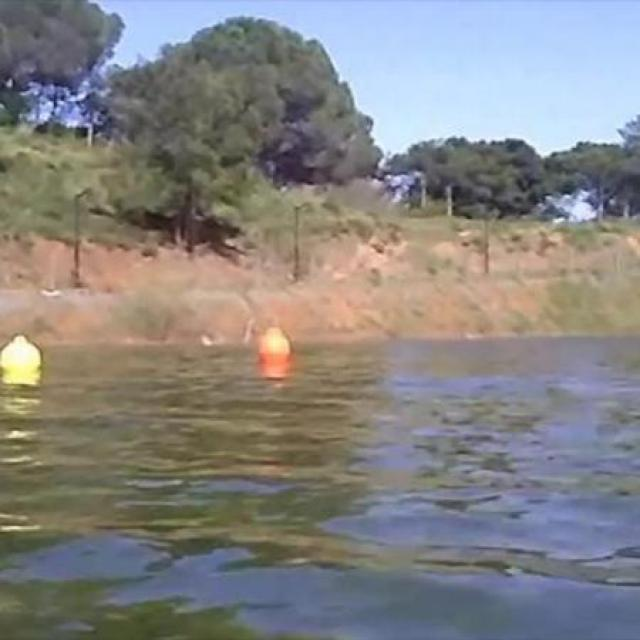buoy: (1, 333, 43, 377), (259, 329, 290, 361)
